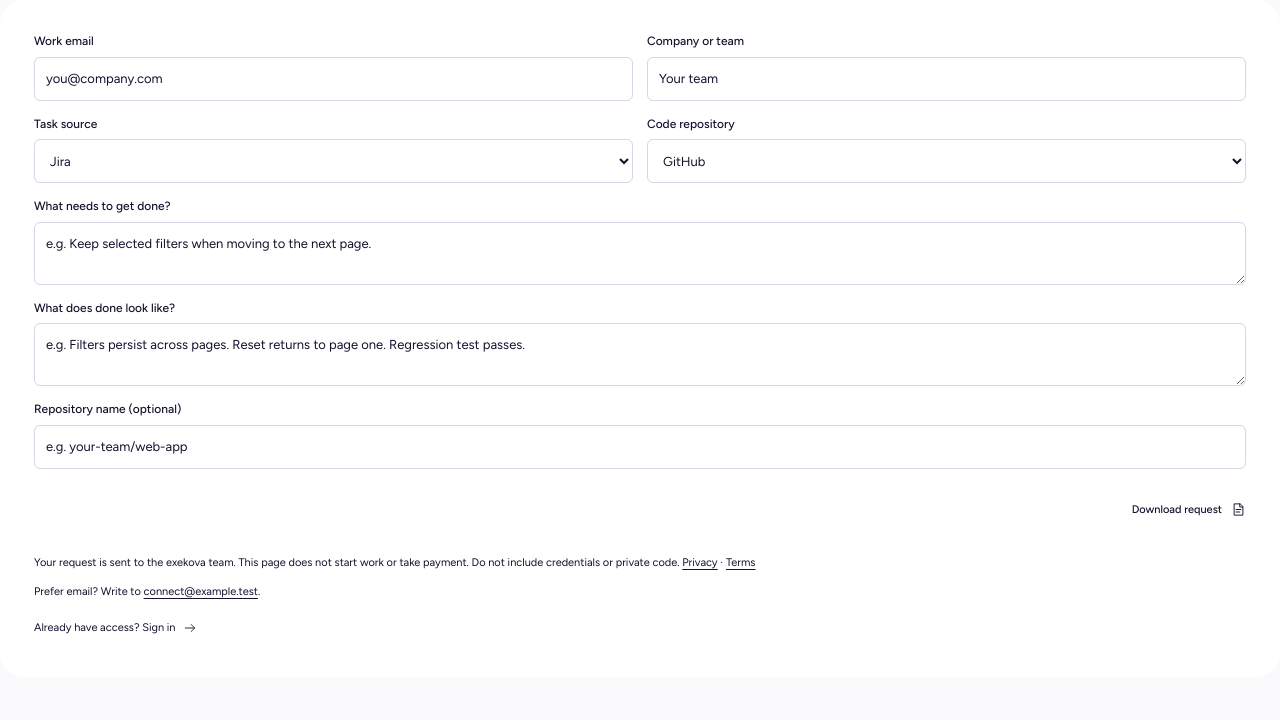
Scenario: qualified requests › does not download an incomplete lead
Click the button "Download request".
click(1189, 510)  # box [1132,486,1246,534]
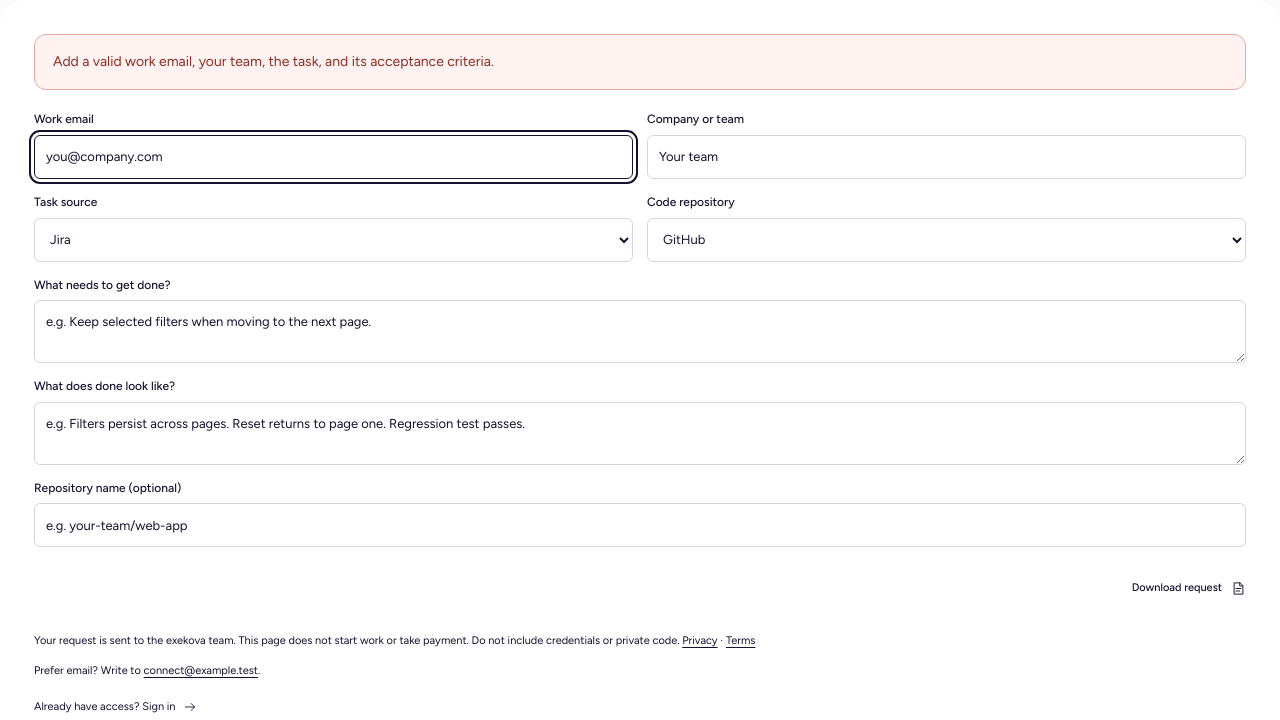
Now the message shows "acceptance criteria", box [53,53,494,70]
